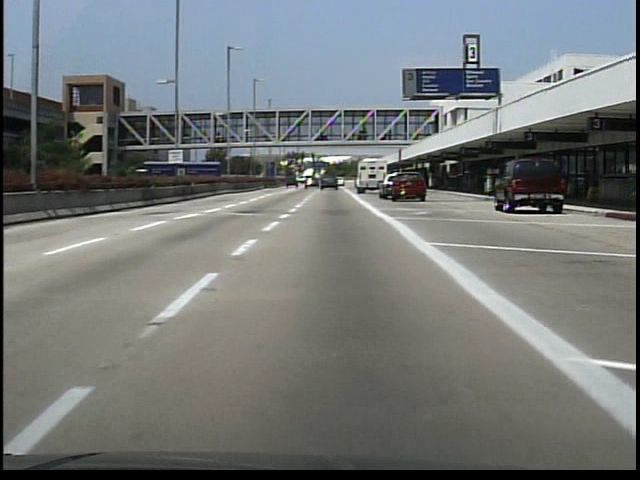person: (414, 171, 430, 201)
